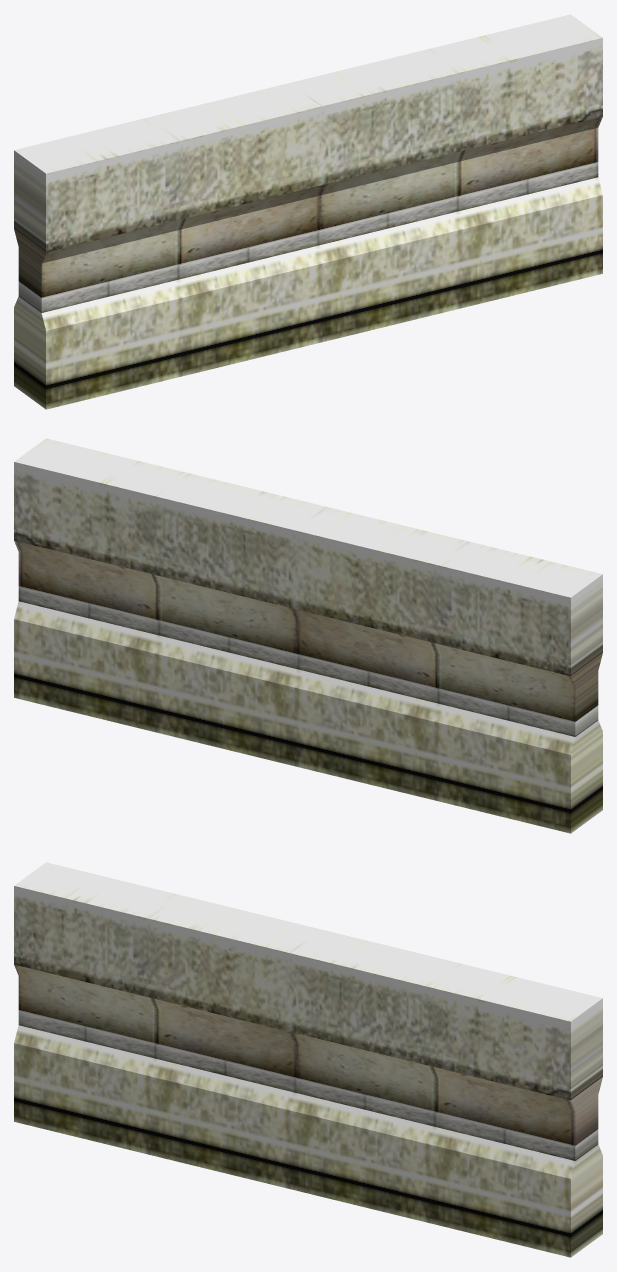
Rendered from Fence.fbx.
3 views of the same model, one above another, from view 1: azimuth 30°, elevation 25°; view 2: azimuth 150°, elevation 25°; view 3: azimuth 330°, elevation 25° (orthographic).
Visible parts, largest first — view 1: Fence; view 2: Fence; view 3: Fence.
Part boxes in pixels (<box>): Fence: <box>14,14,602,409</box>; Fence: <box>14,438,602,833</box>; Fence: <box>14,862,602,1257</box>.
Bounding box in the file's own units: 300 × 121 × 30.
Materials: 1 (1 with a texture image).
